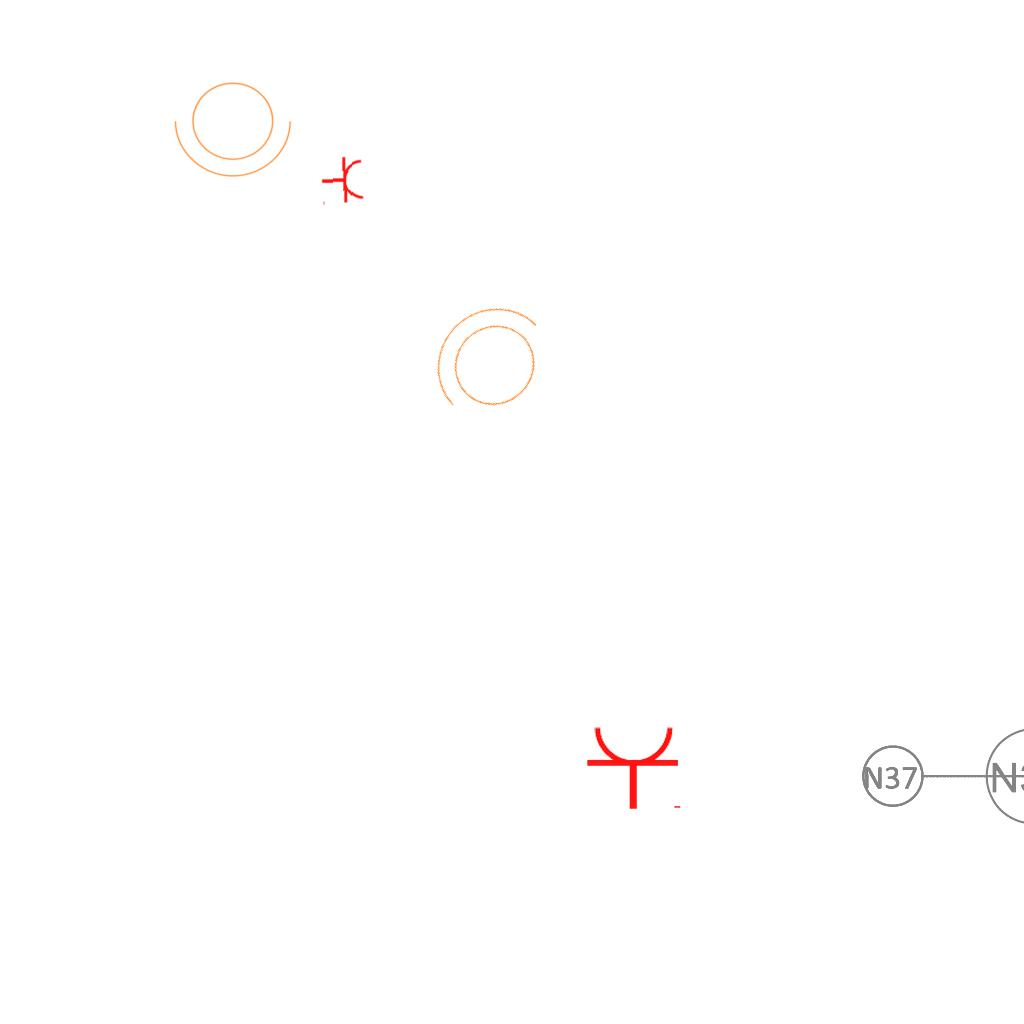Scheinwerfer_fuer_Alarmbeleuchtung: (402, 277, 576, 451), (170, 70, 302, 182)
Schukosteckdose_einfach: (585, 724, 685, 811), (319, 154, 366, 208)
